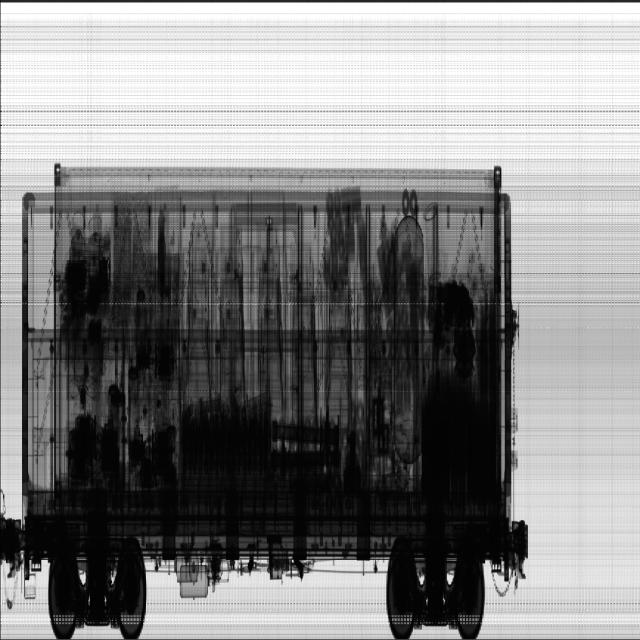auto parts: (180, 392, 271, 484), (128, 424, 175, 488)
